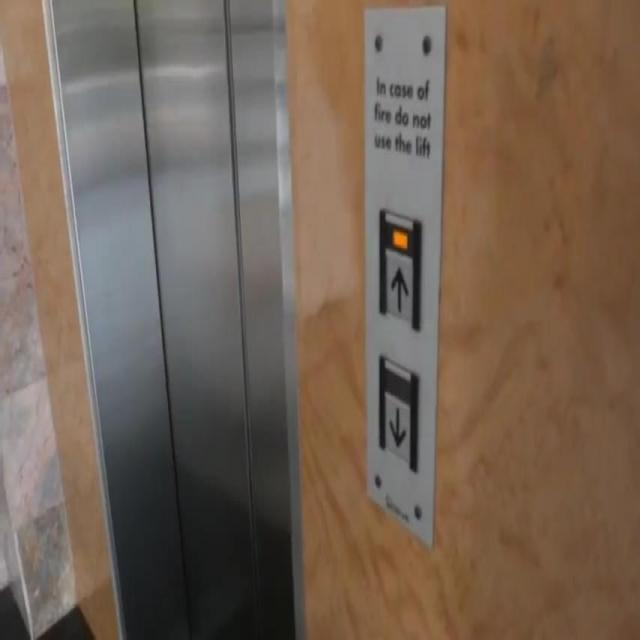down: (377, 351, 420, 473)
up: (378, 207, 422, 331)
